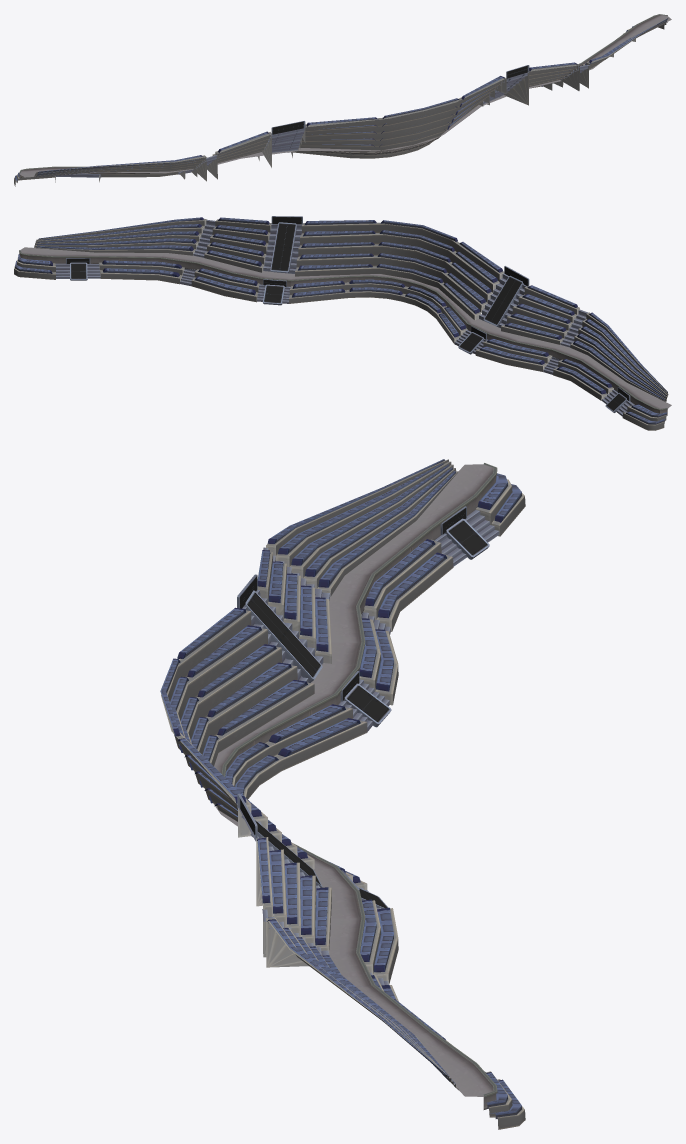
Rendered from pref_sm_beach_bk_pointmol_topbuild02_lv0.fbx.
3 renders of one model, top to bottom at view 1: azimuth 30°, elevation 25°; view 2: azimuth 150°, elevation 25°; view 3: azimuth 270°, elevation 25°, orthographic. The views are drawn at different scales.
Visible parts, largest first — view 1: sm_beach_bk_pointmol_topbuild02a_lv0, sm_beach_bk_pointmol_topbuild02b_lv0, sm_beach_bk_pointmol_topbuild02c_lv0; view 2: sm_beach_bk_pointmol_topbuild02c_lv0, sm_beach_bk_pointmol_topbuild02a_lv0, sm_beach_bk_pointmol_topbuild02b_lv0; view 3: sm_beach_bk_pointmol_topbuild02b_lv0, sm_beach_bk_pointmol_topbuild02a_lv0, sm_beach_bk_pointmol_topbuild02c_lv0.
Boxes of the visible parts, box(x1,y1,x2,y2) form: sm_beach_bk_pointmol_topbuild02a_lv0: box(291, 76, 506, 158); sm_beach_bk_pointmol_topbuild02b_lv0: box(14, 121, 305, 186); sm_beach_bk_pointmol_topbuild02c_lv0: box(483, 14, 671, 105); sm_beach_bk_pointmol_topbuild02c_lv0: box(14, 216, 302, 305); sm_beach_bk_pointmol_topbuild02a_lv0: box(289, 220, 504, 343); sm_beach_bk_pointmol_topbuild02b_lv0: box(454, 266, 671, 430); sm_beach_bk_pointmol_topbuild02b_lv0: box(237, 459, 525, 731); sm_beach_bk_pointmol_topbuild02a_lv0: box(160, 607, 367, 889); sm_beach_bk_pointmol_topbuild02c_lv0: box(237, 793, 525, 1129).
Size of the model in its own units: 125 by 11.44 by 30.47.
